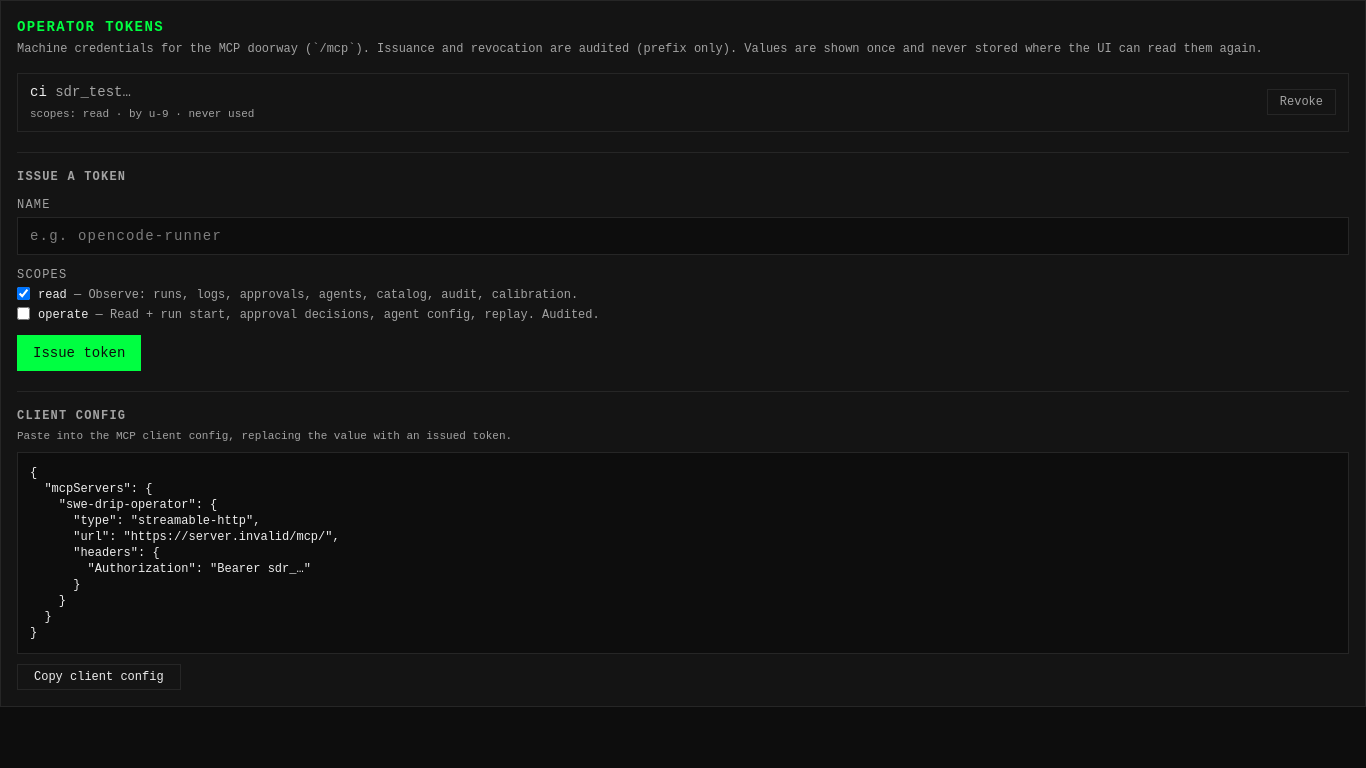
Scenario: OperatorTokens section › copies the client config snippet
Expected: the text "ci" is shown, x1=30 y1=84 x2=47 y2=100
Step 1. Click the button "Copy client config" → (99,677), box x1=17 y1=664 x2=181 y2=690
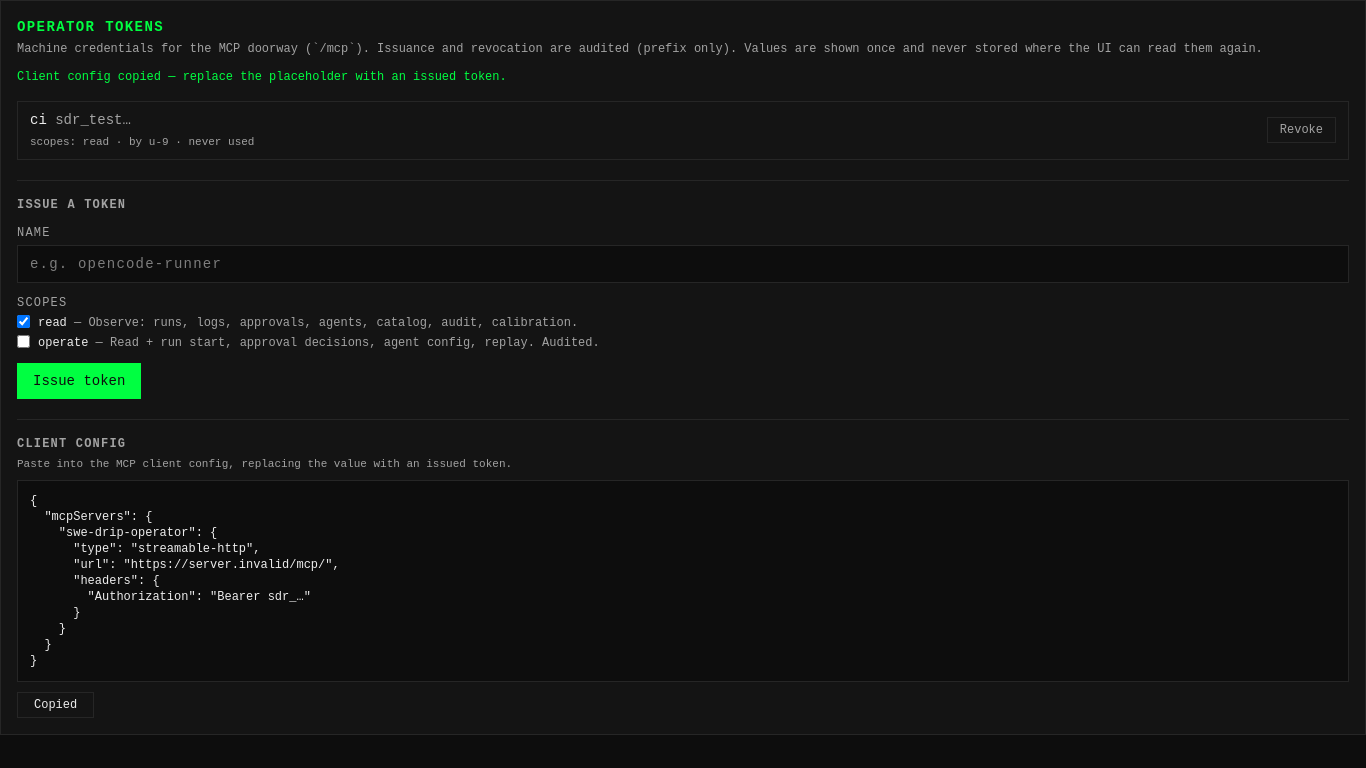
Expected: the button "Copied" is shown, x1=17 y1=692 x2=94 y2=718
